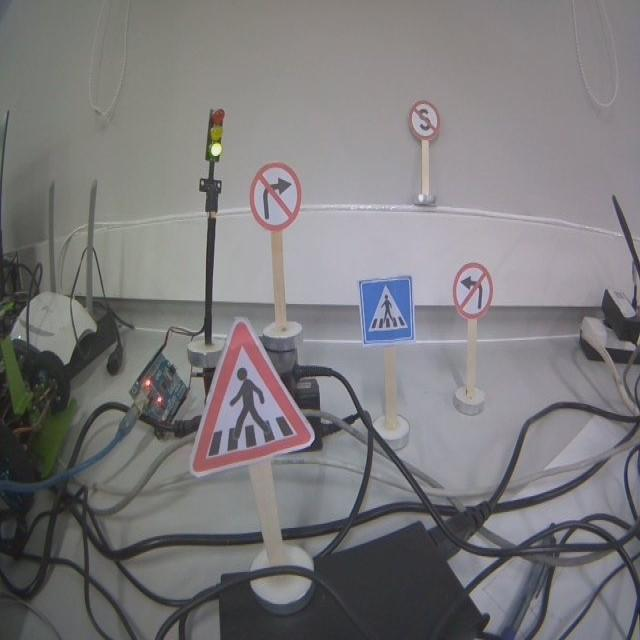Dilarang Belok Kanan: (249, 162, 302, 230)
Dilarang Belok Kiri: (452, 262, 493, 318)
Lampu Hijau: (205, 108, 224, 161)
Rambu Berhenti: (409, 101, 440, 140)
Rambu Penyebrangan: (189, 319, 313, 473), (358, 275, 416, 345)
